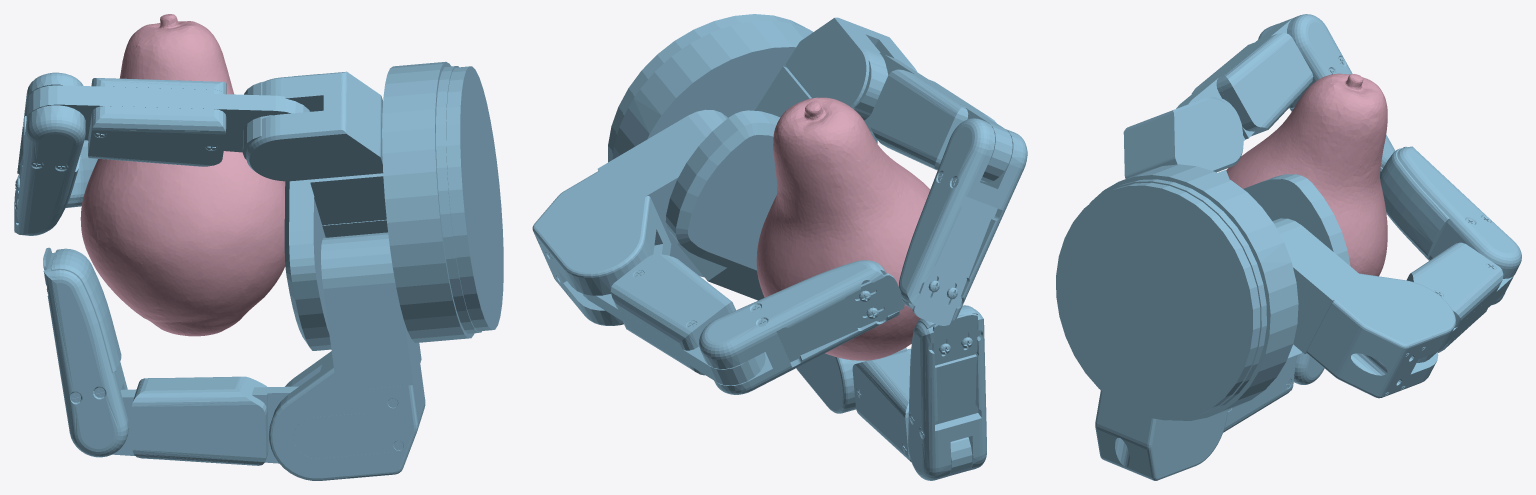
The picture shows the model from 3 angles, left to right: view 1: azimuth 30°, elevation 25°; view 2: azimuth 150°, elevation 25°; view 3: azimuth 270°, elevation 25°; orthographic projection. The views are drawn at different scales.
Parts seen in each view (by area): view 1: world; view 2: world; view 3: world.
Part boxes in pixels (box(x1,y1,x2,y2)): world: box(14, 14, 503, 480); world: box(532, 14, 1027, 480); world: box(1056, 14, 1521, 480).
Bounding box in the file's own units: 0.1661 × 0.1401 × 0.1643.
